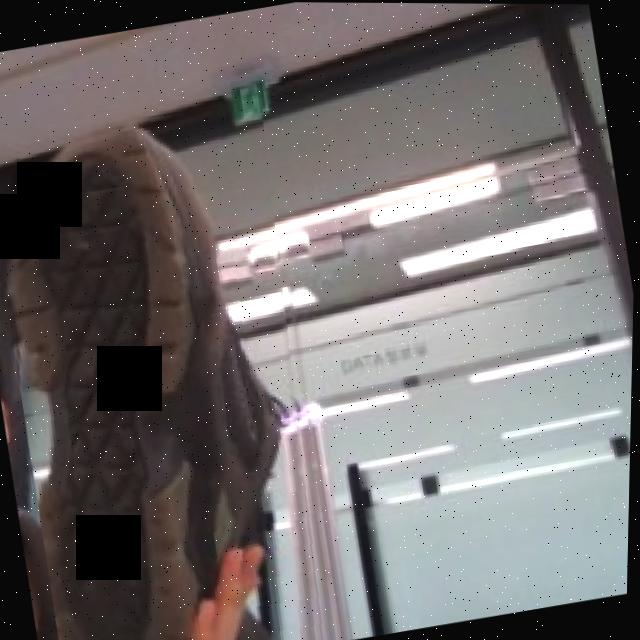shoe: (0, 95, 355, 640)
